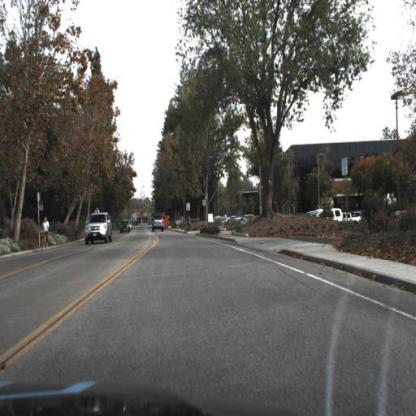biker: (41, 217, 50, 252), (180, 214, 185, 232)
car: (84, 210, 113, 246), (312, 209, 344, 225), (343, 211, 366, 229), (152, 213, 166, 234), (120, 220, 131, 234)
pedestrian: (224, 211, 229, 231)
